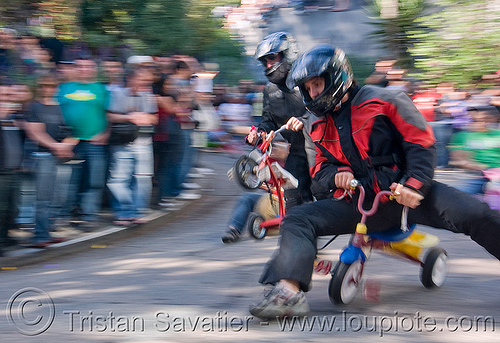helmet: (298, 55, 355, 107), (248, 33, 297, 76)
